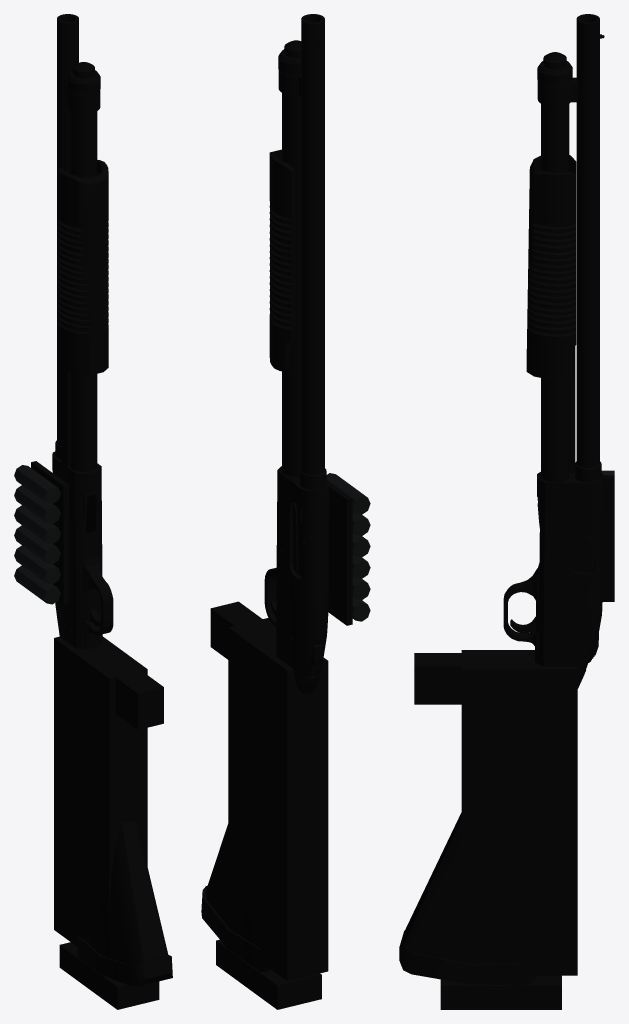
Rendered from M590__RecoilPad_Rubber__Sidesaddle_Shotgun__Stock_M590_PistolGrip.fbx.
3 views of the same model, side by side, from view 1: azimuth 30°, elevation 25°; view 2: azimuth 210°, elevation 25°; view 3: azimuth 270°, elevation 25° (orthographic). The views are drawn at different scales.
Visible parts, largest first — view 1: asset_M590.001; view 2: asset_M590.001; view 3: asset_M590.001.
Part boxes in pixels (bbox=[...]): asset_M590.001: bbox=[14, 14, 172, 1009]; asset_M590.001: bbox=[201, 14, 370, 1009]; asset_M590.001: bbox=[399, 14, 614, 1009].
Bounding box in the file's own units: 0.0447 × 0.615 × 0.1224.
